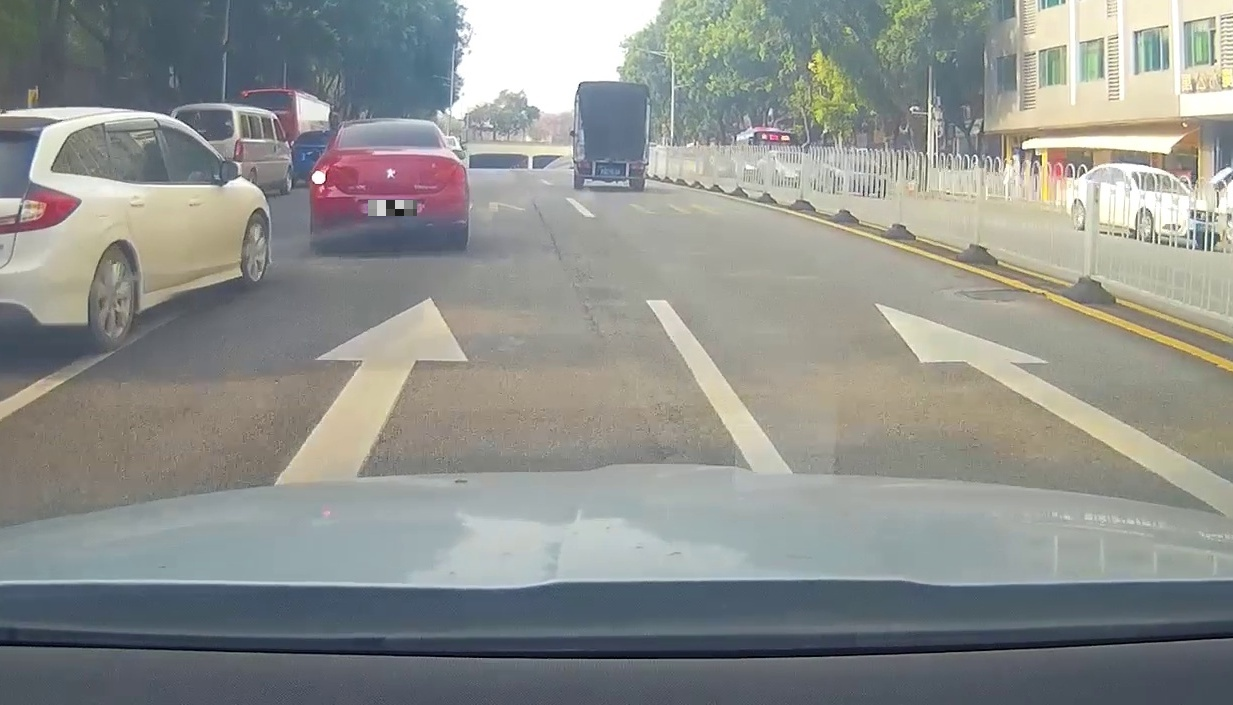L_light: (311, 167, 332, 186), (578, 162, 592, 169)
R_light: (449, 164, 467, 184), (630, 163, 646, 170)
T_light: (378, 125, 403, 130), (609, 85, 625, 90)
day-left: (309, 117, 470, 254)
day-no: (573, 81, 651, 191)
plate_1: (368, 200, 417, 216)
